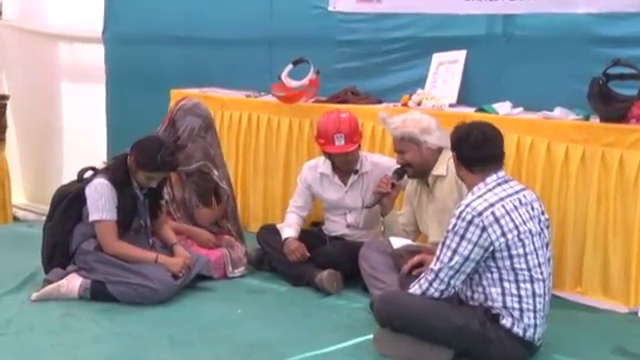helmet: (311, 108, 364, 156)
helmet_off: (446, 122, 514, 198), (385, 114, 446, 183), (119, 134, 184, 195), (160, 100, 217, 166)
helmet_on: (311, 111, 365, 178)
person: (370, 114, 561, 358), (29, 130, 198, 307), (247, 106, 401, 292), (356, 115, 472, 289), (140, 90, 247, 271)
